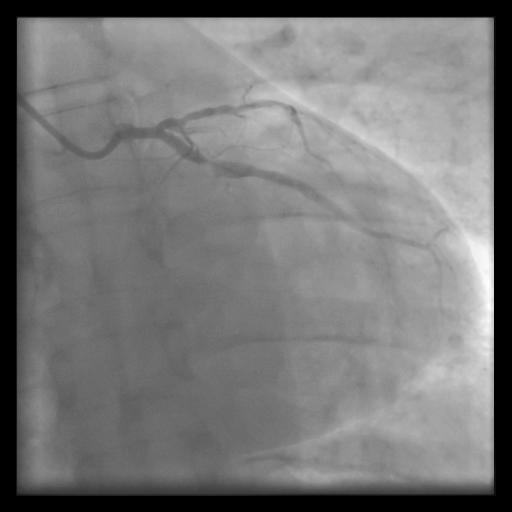Stenosis: (198, 149, 227, 175)
